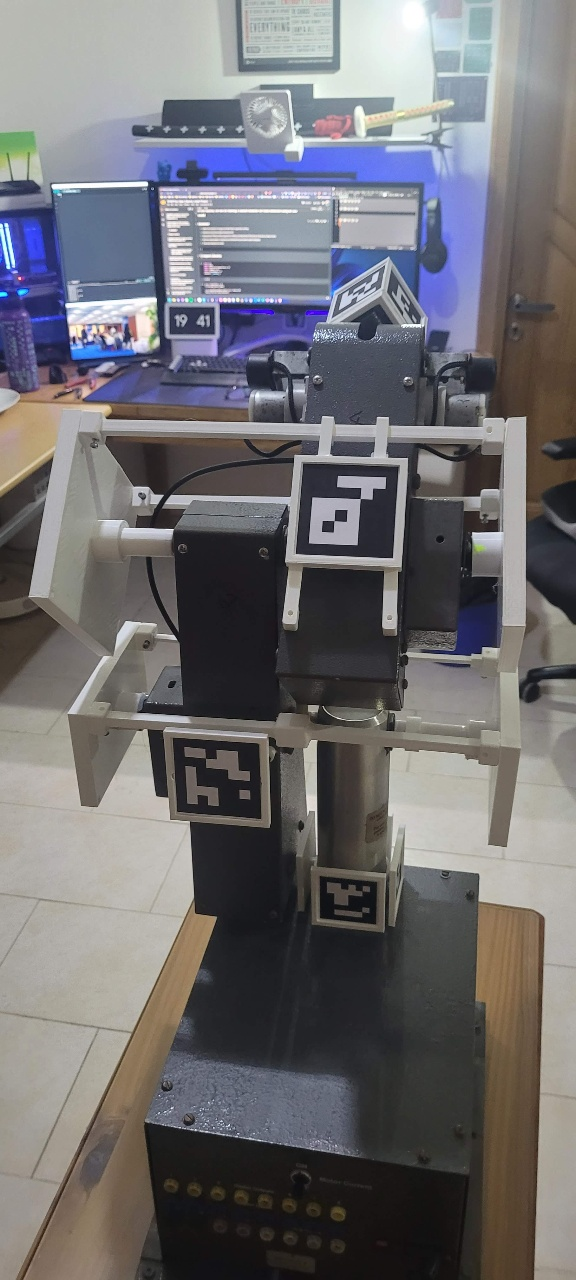Robot: (94, 189, 537, 1096)
